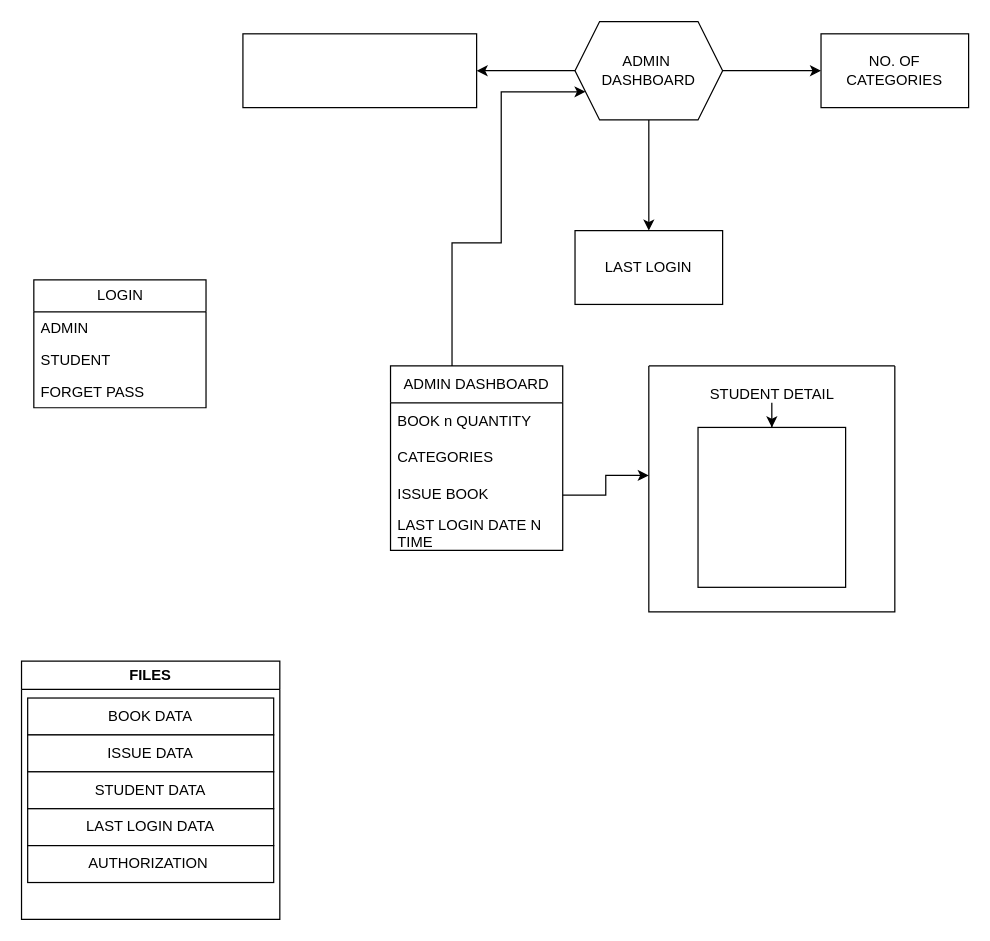
The diagram is 990 pixels wide and 941 high, and some of its shapes have lost their labels. The centre of each missing label's shape, as x and y in pixels:
"BOOKS AVAILABLE QUANTITY OF BOOK ISSUED BOOK QUANITU" belongs at point (359, 70).
"ENROLLMENT ID NAME BOOK NAME RETURN DATE" belongs at point (771, 506).
